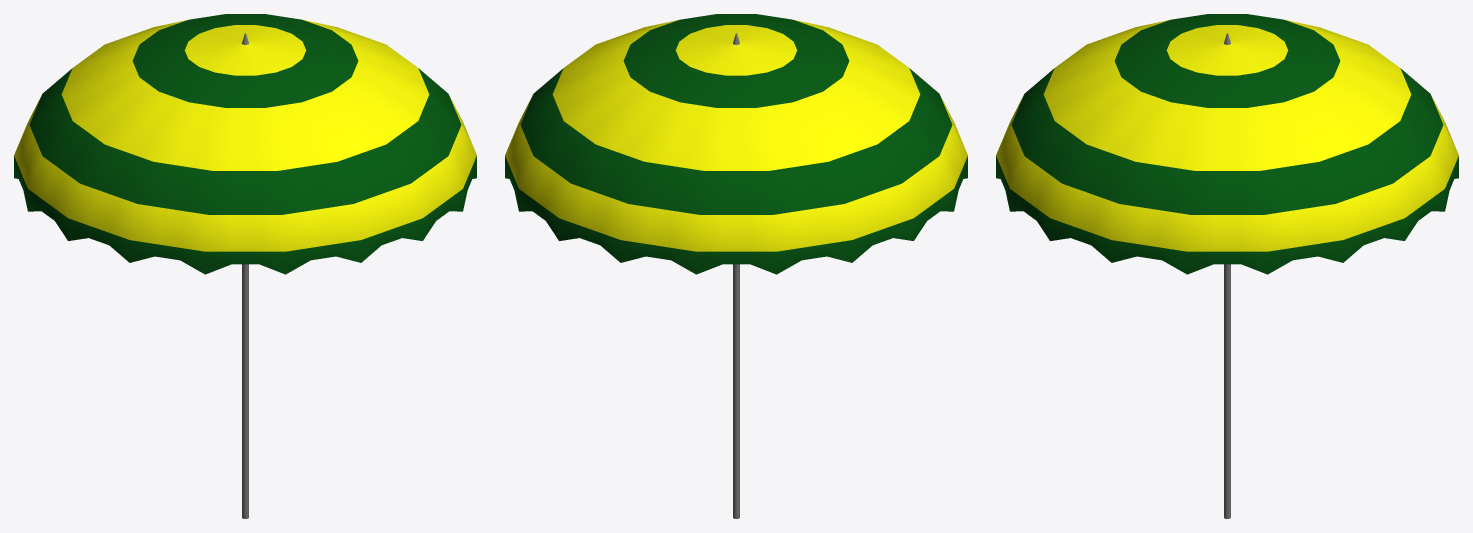
File: Sombrinha4.fbx
3 renders of one model, left to right at view 1: azimuth 30°, elevation 25°; view 2: azimuth 150°, elevation 25°; view 3: azimuth 270°, elevation 25°, orthographic.
Parts seen in each view (by area): view 1: Sombrinha4; view 2: Sombrinha4; view 3: Sombrinha4.
Boxes of the visible parts, x1=… form: Sombrinha4: x1=14, y1=14, x2=476, y2=518; Sombrinha4: x1=505, y1=14, x2=967, y2=518; Sombrinha4: x1=996, y1=14, x2=1458, y2=518.
Size of the model in its own units: 980 by 1149 by 995.
